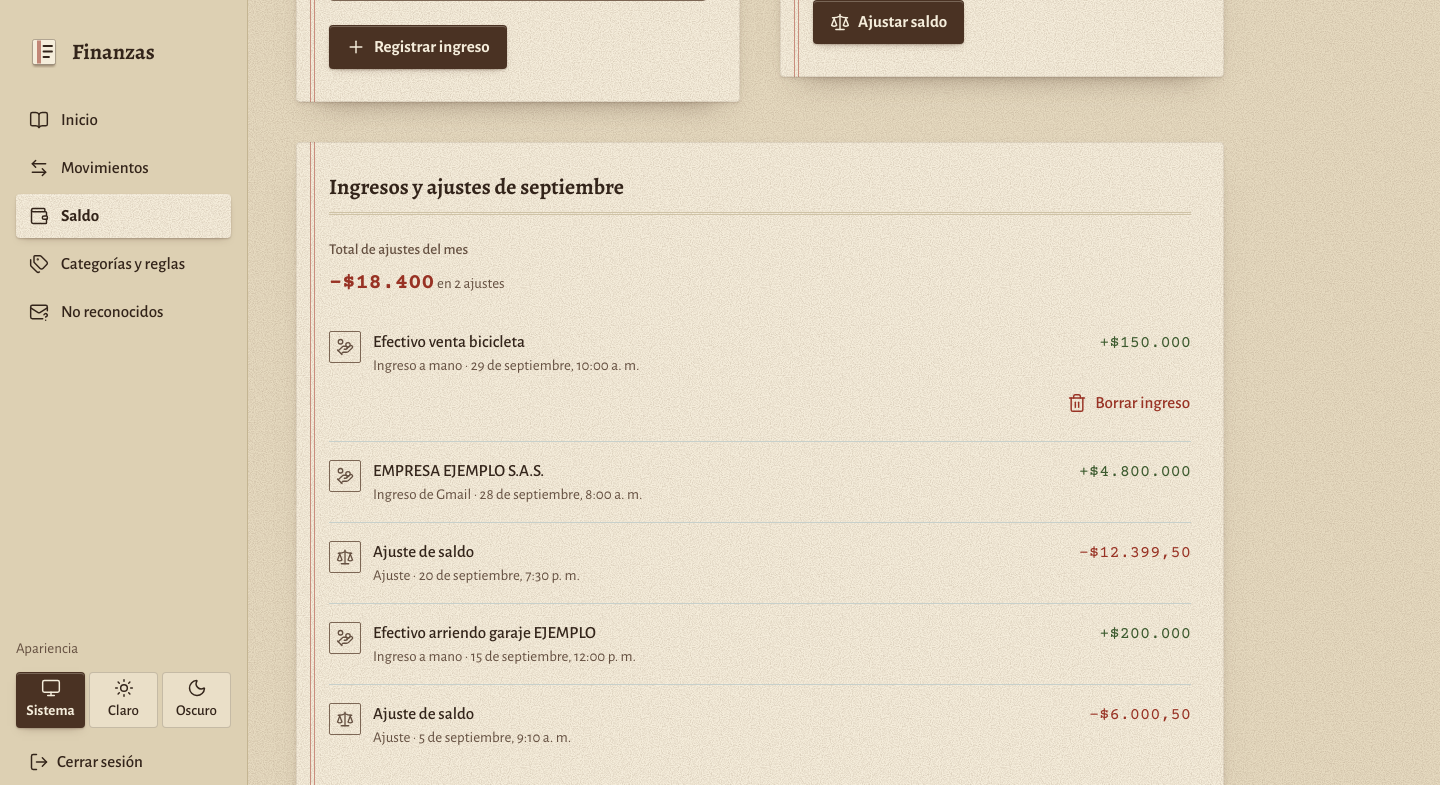
Saldo › Deshacer restaura el ingreso y el saldo como estaban
The width and height of the screenshot is (1440, 785).
(page scrolled)
Click the button named "Borrar ingreso Efectivo venta bicicleta": (1129,403) [1054,381,1203,425]
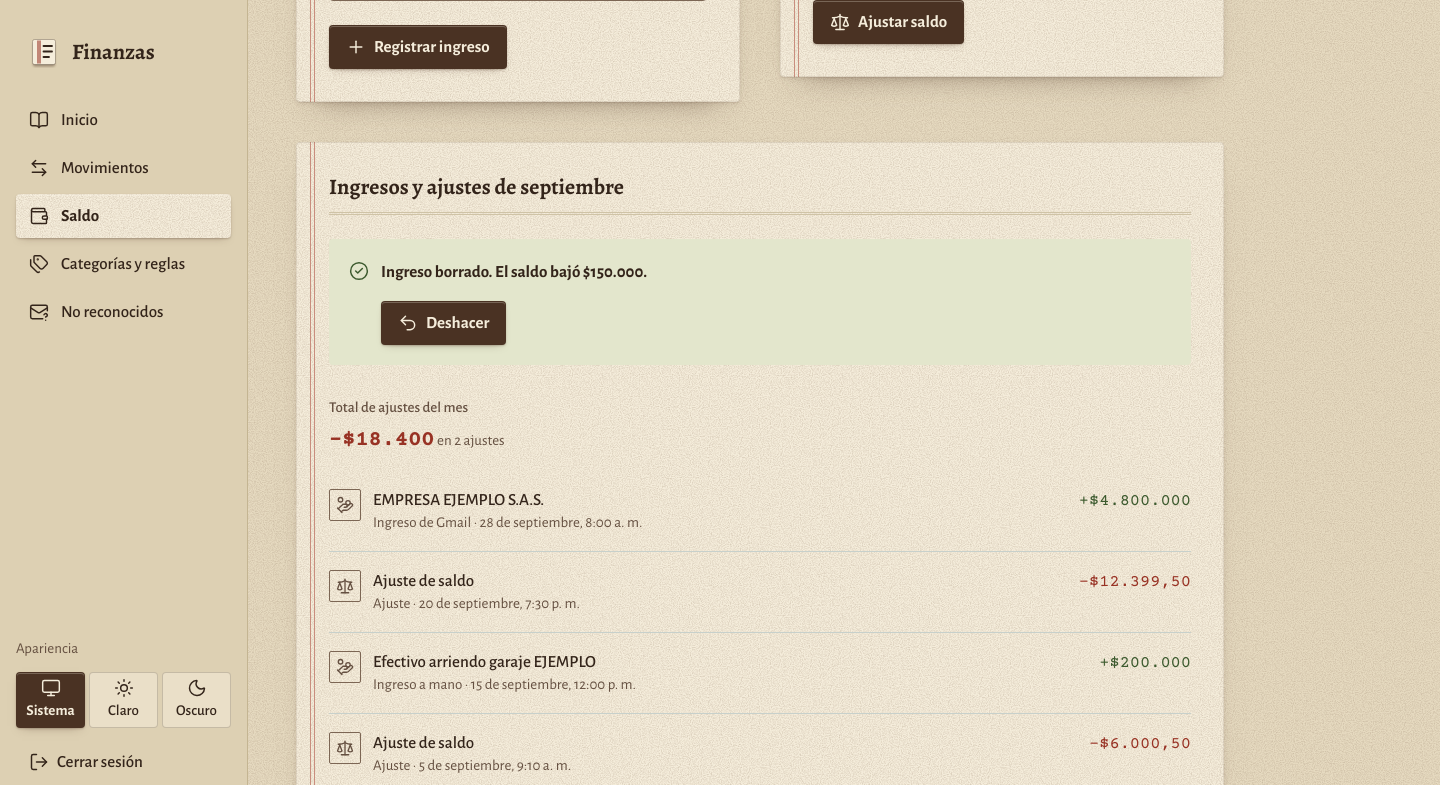
Click the button "Deshacer": (444,323) [381,301,506,345]
(page scrolled)
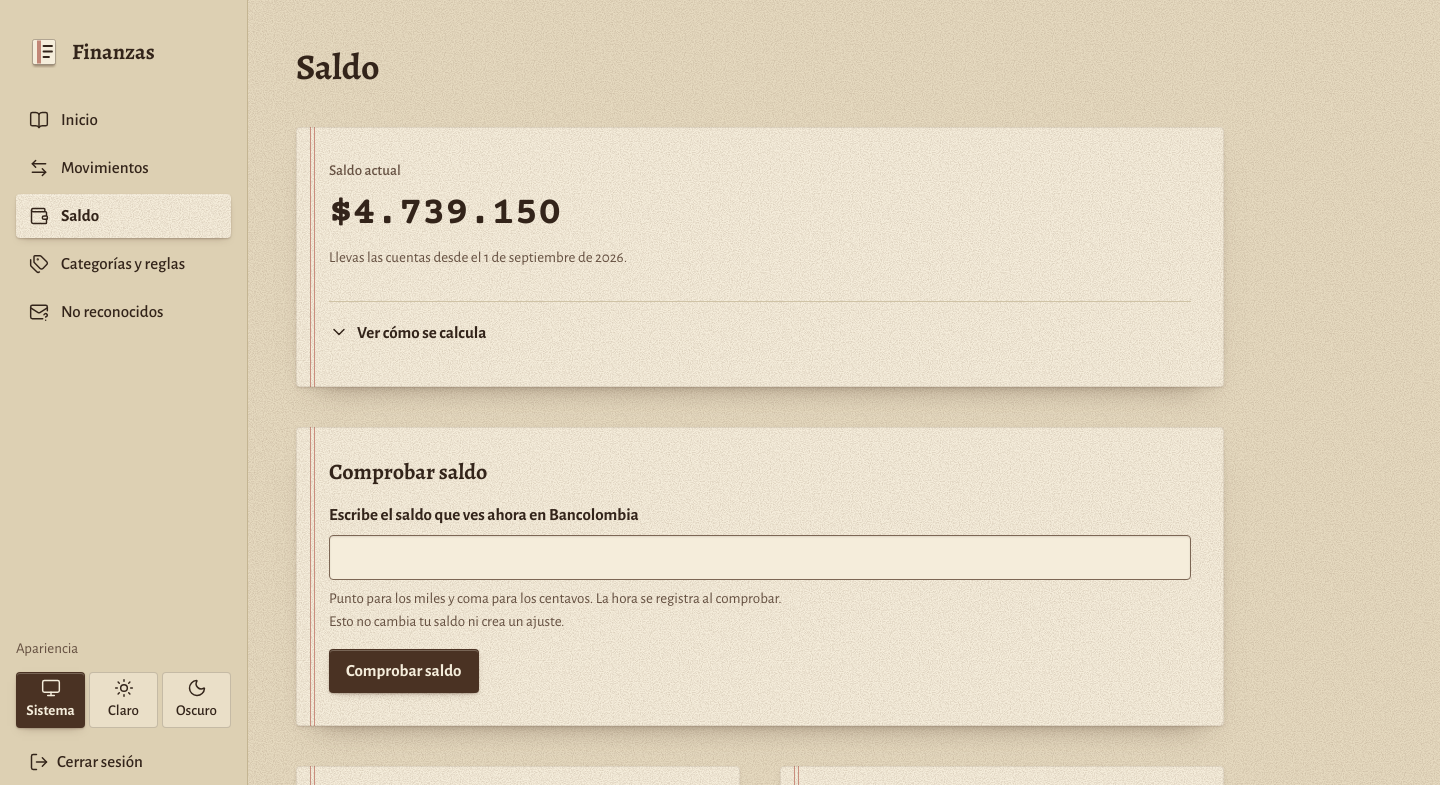
Expected: the button "Deshacer" is gone
Expected: the element "Saldo actual" shows "$4.739.150", [329,192,561,237]
